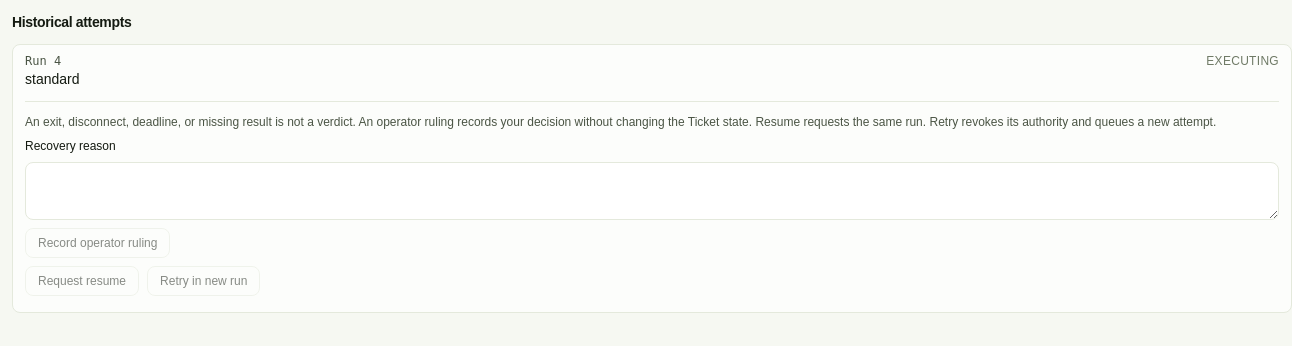
it: attempt recovery › records an explicit ruling without replacing the original attempt
The width and height of the screenshot is (1292, 346).
Expected: the form with test id "run-recovery-form-4" is shown, [25,138,1279,296]
Step 1. Type "Keep this attempt for audit; no completion verdict is available." into the text box with test id "run-recovery-summary-4" → (652, 191), box [25,162,1279,220]
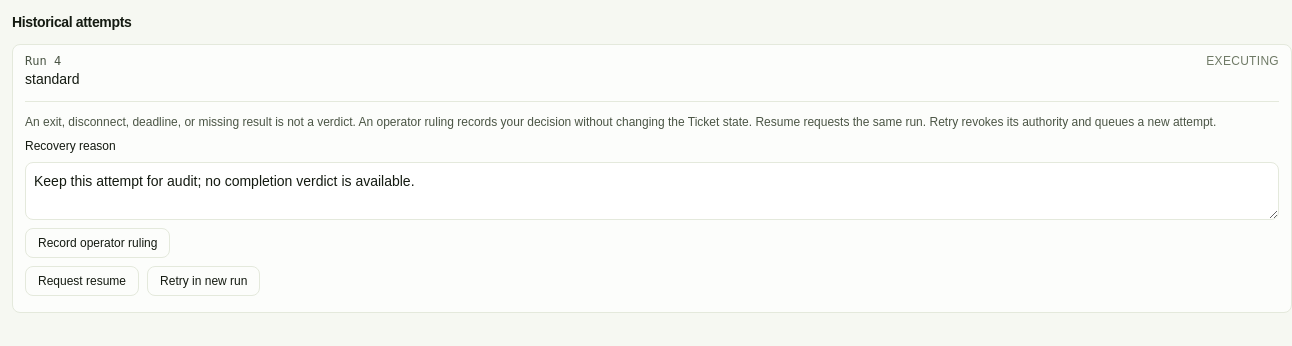
Step 2. Submit the form with test id "run-recovery-form-4", box [25,138,1279,296]
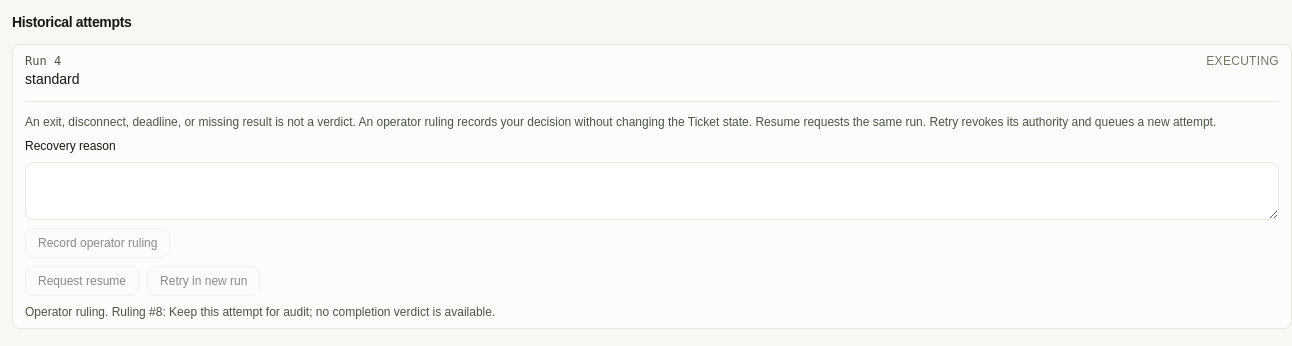
Expected: the list item with test id "drawer-attempt-4" shows "standard", [25,71,80,87]
Result: the list with test id "run-recovery-history-4" shows "Keep this attempt for audit; no completion verdict is available." at [25,305,495,319]
